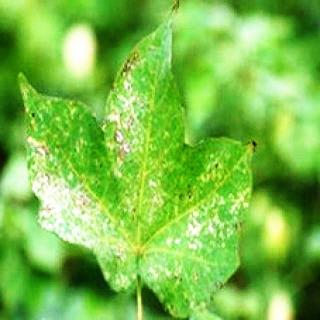grey mildew: (24, 45, 259, 299)
